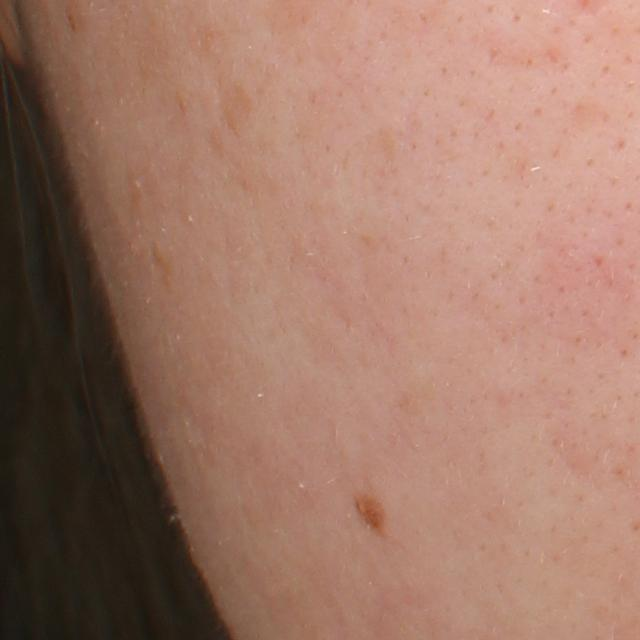nevus: (353, 492, 388, 537)
